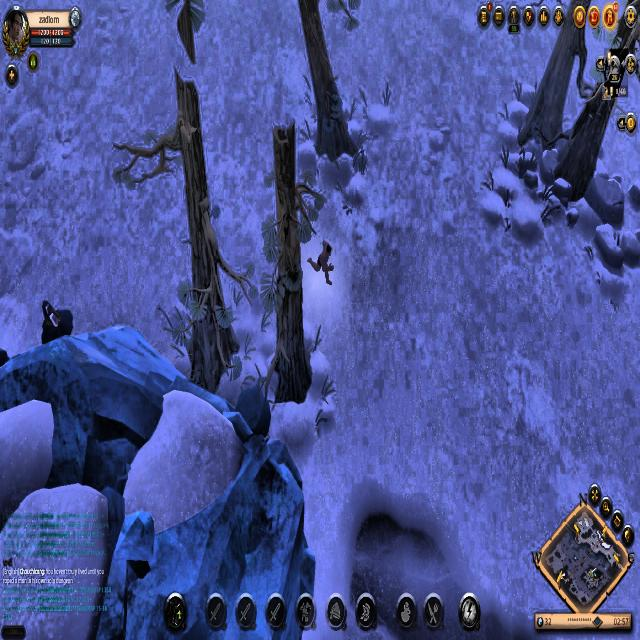copper_ore: (38, 295, 72, 342)
